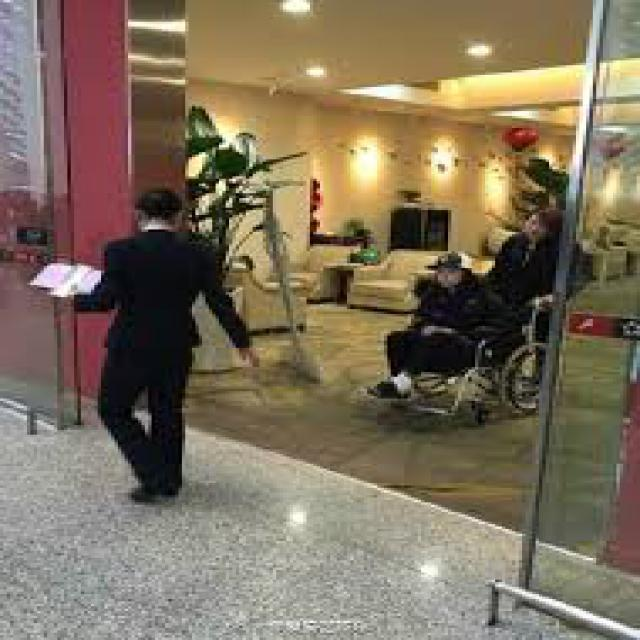wheelchairs: (384, 282, 556, 426)
